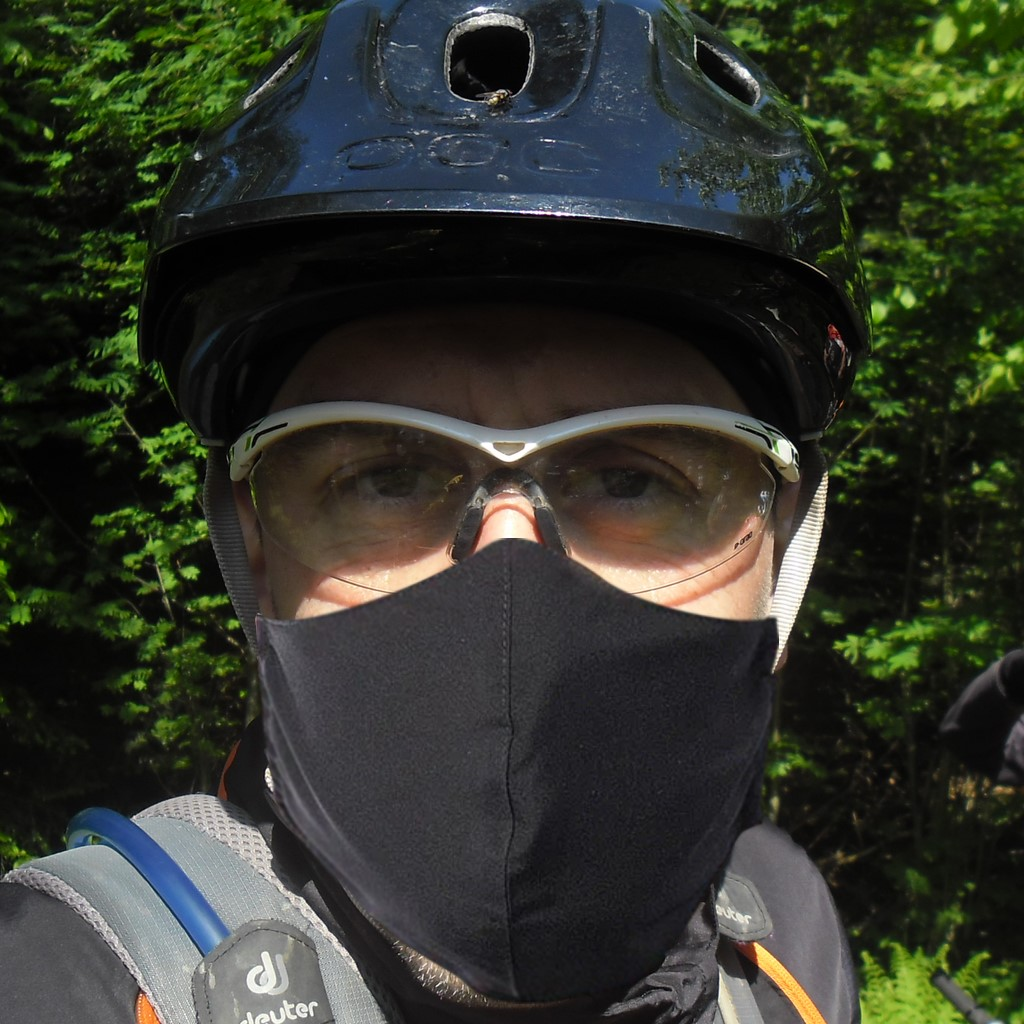con_mascara: (192, 226, 838, 1014)
